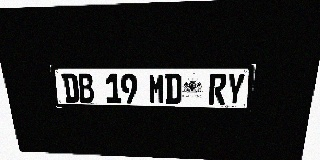1: (104, 73, 122, 103)
9: (121, 73, 138, 103)
B: (77, 73, 95, 103)
D: (61, 73, 80, 102), (165, 73, 182, 104)
M: (148, 73, 165, 104)
R: (208, 74, 227, 105)
Y: (225, 74, 245, 105)
